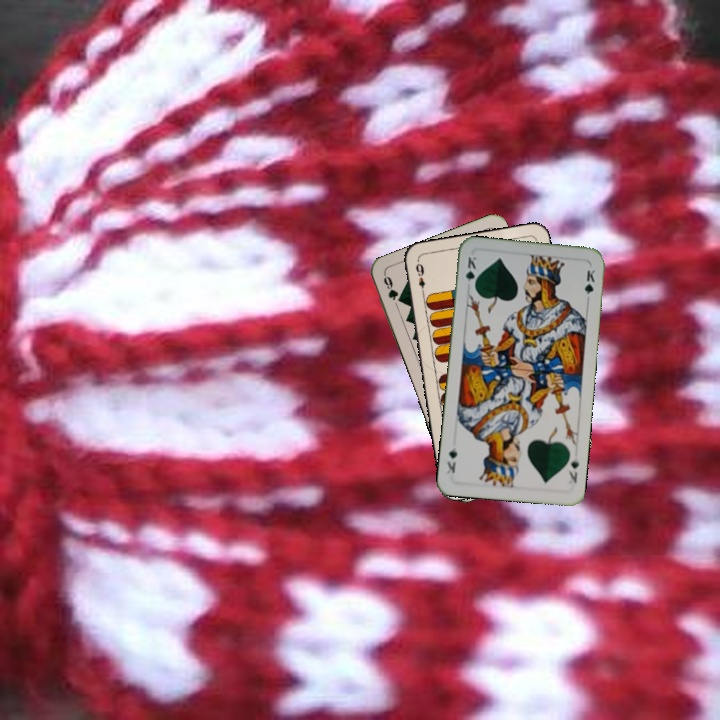E9: (411, 257, 428, 298)
G9: (379, 271, 400, 310)
GK: (461, 253, 479, 292), (564, 454, 581, 485)
